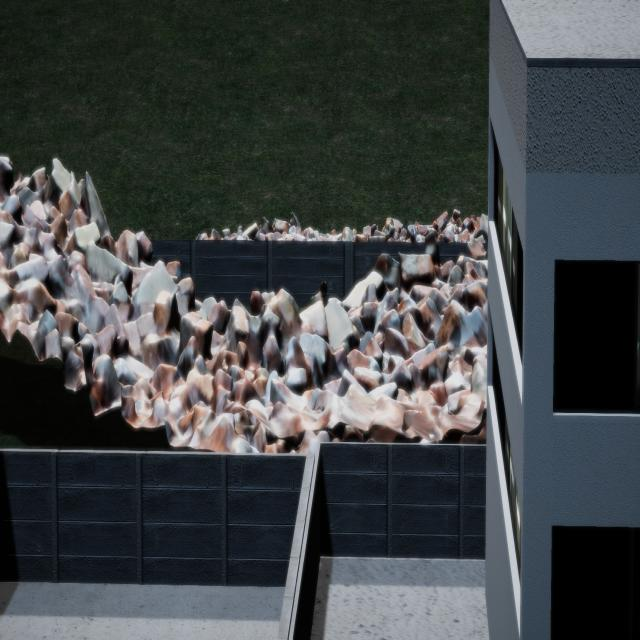Human: (310, 280, 336, 317)
